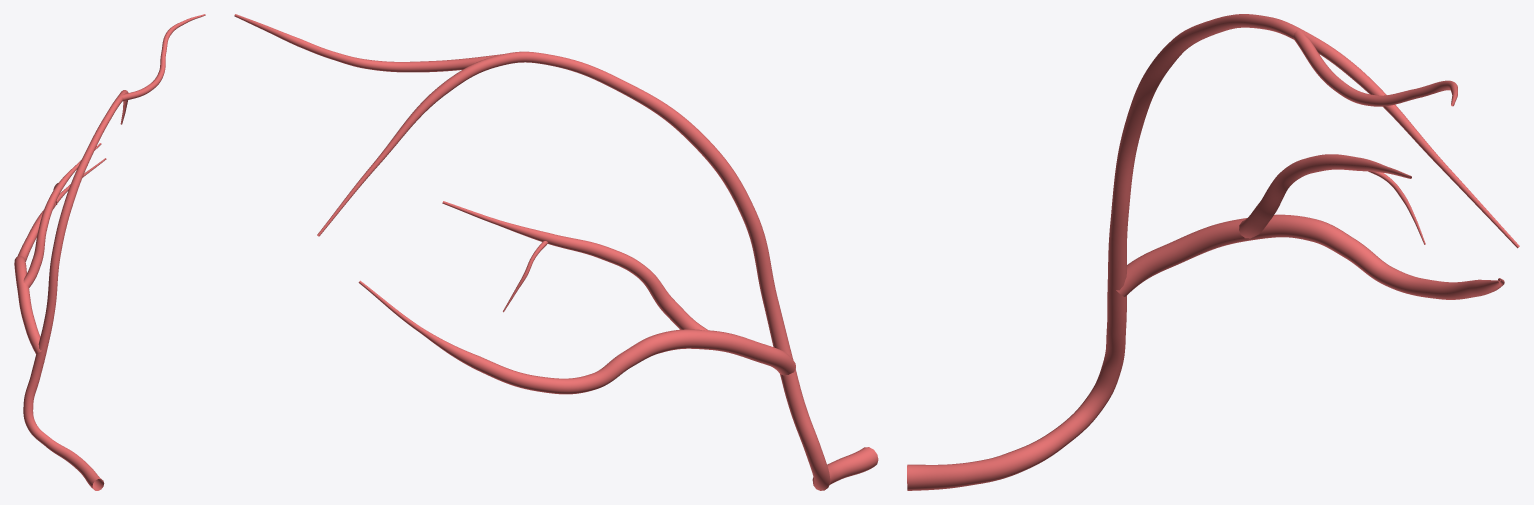
The model's file is Posterior_parietal_artery.r_BezierCurve.072.glb.
3 renders of one model, left to right at view 1: azimuth 30°, elevation 25°; view 2: azimuth 150°, elevation 25°; view 3: azimuth 270°, elevation 25°, orthographic. The views are drawn at different scales.
Parts seen in each view (by area): view 1: Posterior_parietal_artery.r_BezierCurve.072; view 2: Posterior_parietal_artery.r_BezierCurve.072; view 3: Posterior_parietal_artery.r_BezierCurve.072.
Part boxes in pixels (bbox=[...]): Posterior_parietal_artery.r_BezierCurve.072: bbox=[14, 14, 205, 490]; Posterior_parietal_artery.r_BezierCurve.072: bbox=[234, 14, 878, 490]; Posterior_parietal_artery.r_BezierCurve.072: bbox=[907, 14, 1519, 490].
Bounding box in the file's own units: 0.037 × 0.0415 × 0.0371.
